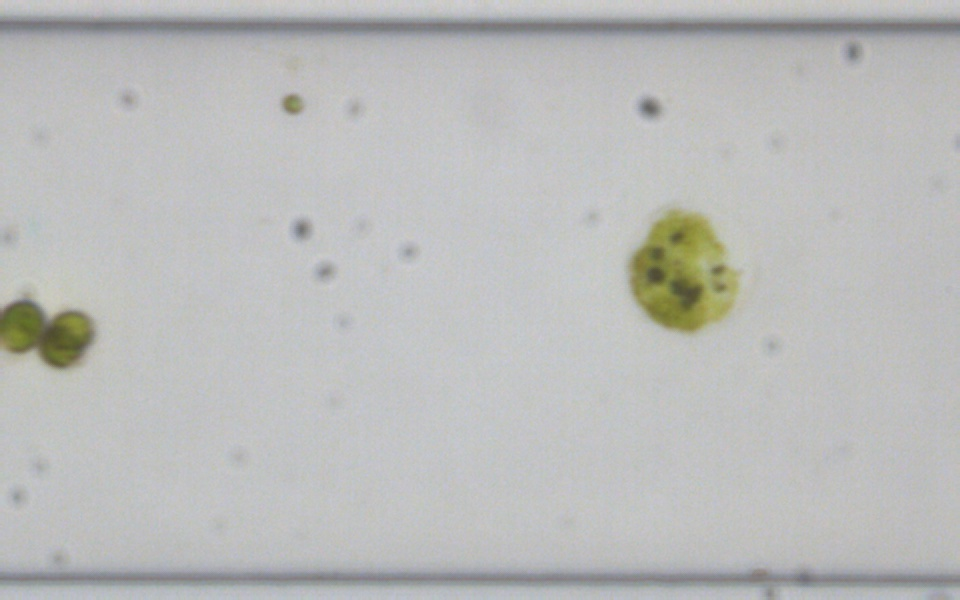Chlorella: (281, 92, 302, 114)
Haematococcus: (624, 205, 739, 337)
Platymonas: (36, 307, 97, 370), (0, 297, 49, 357)
